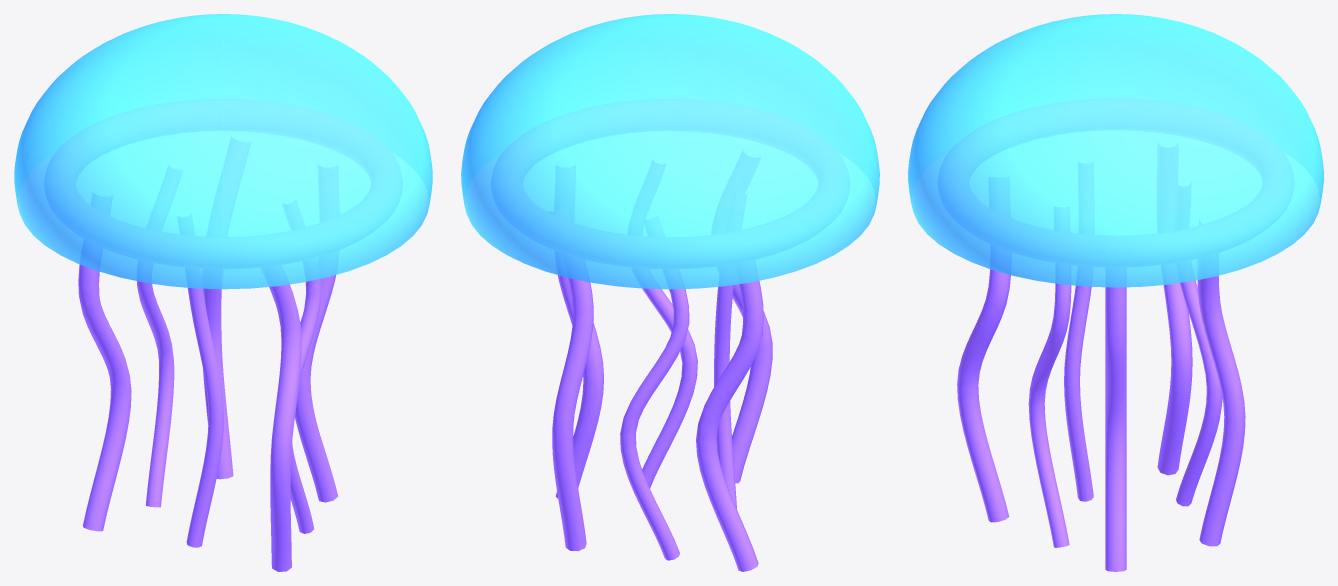
File: jellyfish.glb
3 renders of one model, left to right at view 1: azimuth 30°, elevation 25°; view 2: azimuth 150°, elevation 25°; view 3: azimuth 270°, elevation 25°, orthographic.
Parts seen in each view (by area): view 1: Campana, Tentaculo_3, Tentaculo_5, Tentaculo_4, Tentaculo_6, Tentaculo_1, Tentaculo_2, Tentaculo_7; view 2: Campana, Tentaculo_5, Tentaculo_7, Tentaculo_6, Tentaculo_2, Tentaculo_3, Tentaculo_1, Tentaculo_4; view 3: Campana, Tentaculo_1, Tentaculo_7, Tentaculo_3, Tentaculo_2, Tentaculo_5, Tentaculo_4, Tentaculo_6.
Boxes of the visible parts, left/top/right/bottom form: Campana: left=14, top=14, right=432, bottom=289; Tentaculo_3: left=269, top=284, right=301, bottom=571; Tentaculo_5: left=78, top=264, right=131, bottom=531; Tentaculo_4: left=186, top=288, right=223, bottom=547; Tentaculo_6: left=137, top=281, right=174, bottom=507; Tentaculo_1: left=295, top=275, right=338, bottom=502; Tentaculo_2: left=290, top=278, right=321, bottom=533; Tentaculo_7: left=203, top=288, right=233, bottom=479; Campana: left=461, top=14, right=879, bottom=289; Tentaculo_5: left=696, top=280, right=763, bottom=571; Tentaculo_7: left=552, top=277, right=593, bottom=551; Tentaculo_6: left=620, top=289, right=689, bottom=560; Tentaculo_2: left=642, top=288, right=697, bottom=488; Tentaculo_3: left=732, top=284, right=772, bottom=483; Tentaculo_1: left=555, top=275, right=603, bottom=498; Tentaculo_4: left=714, top=285, right=736, bottom=508; Campana: left=908, top=14, right=1323, bottom=287; Tentaculo_1: left=1105, top=287, right=1126, bottom=571; Tentaculo_7: left=1197, top=275, right=1245, bottom=546; Tentaculo_3: left=957, top=269, right=1010, bottom=522; Tentaculo_2: left=1028, top=283, right=1071, bottom=547; Tentaculo_5: left=1157, top=283, right=1192, bottom=475; Tentaculo_4: left=1064, top=285, right=1093, bottom=501; Tentaculo_6: left=1176, top=280, right=1222, bottom=506.
Bounding box in the file's own units: 0.1559 × 0.1993 × 0.1559.
